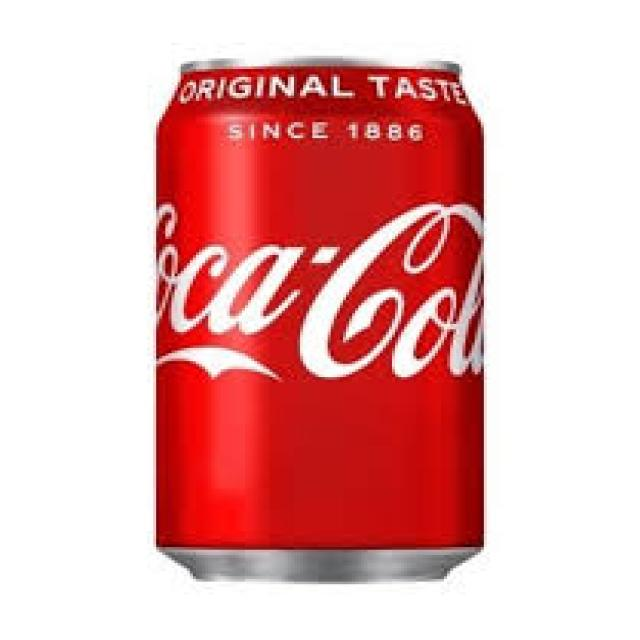aluminum_can: (156, 58, 487, 582)
